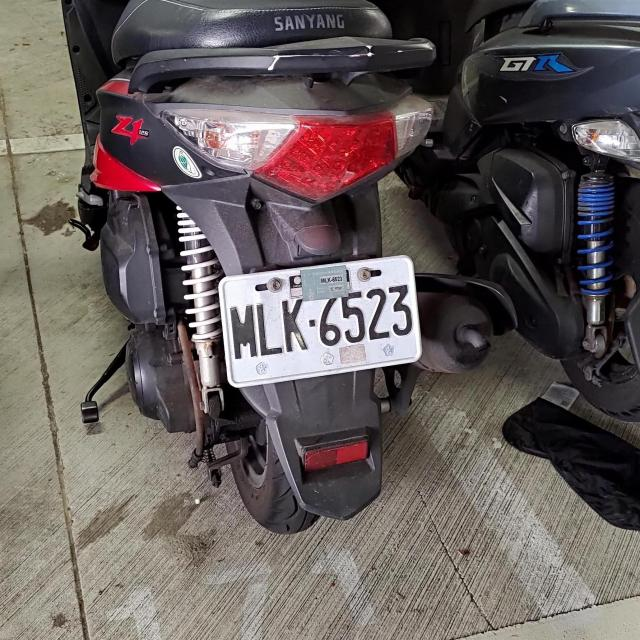W: (216, 258, 423, 384)
